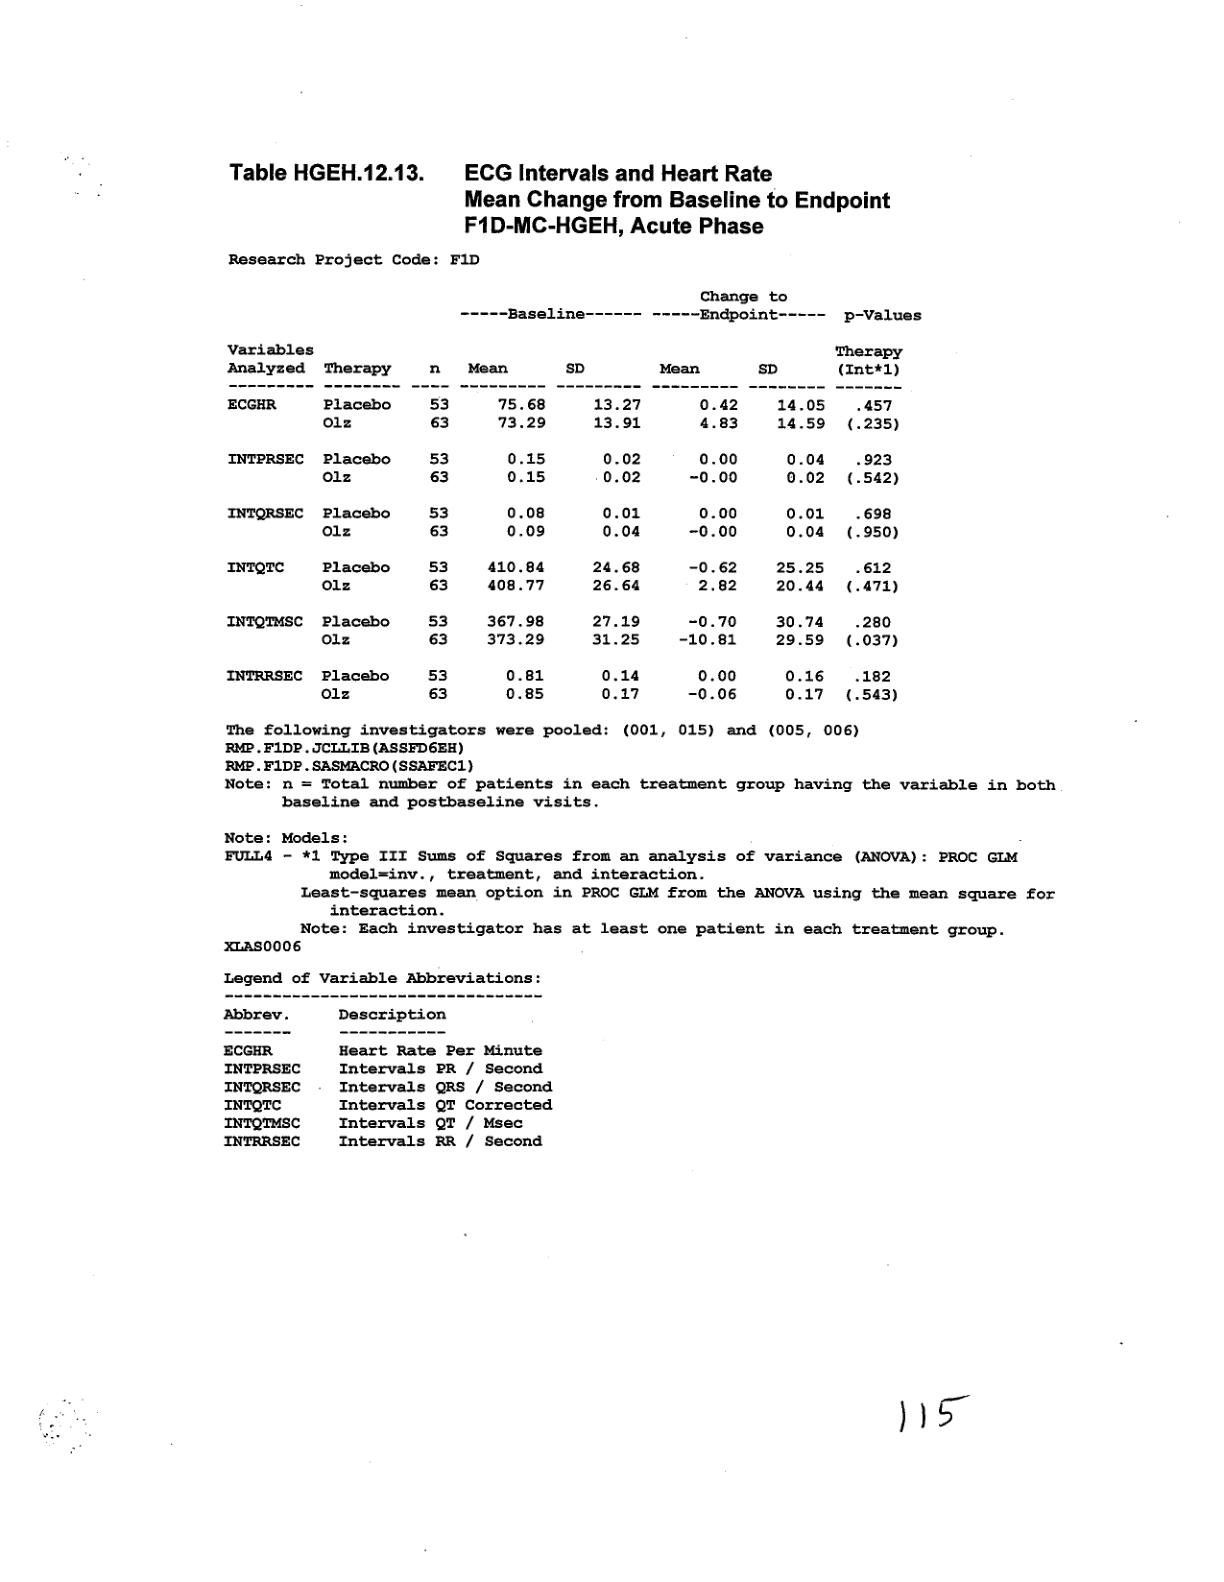nolines: (221, 289, 926, 710), (223, 990, 559, 1160)
